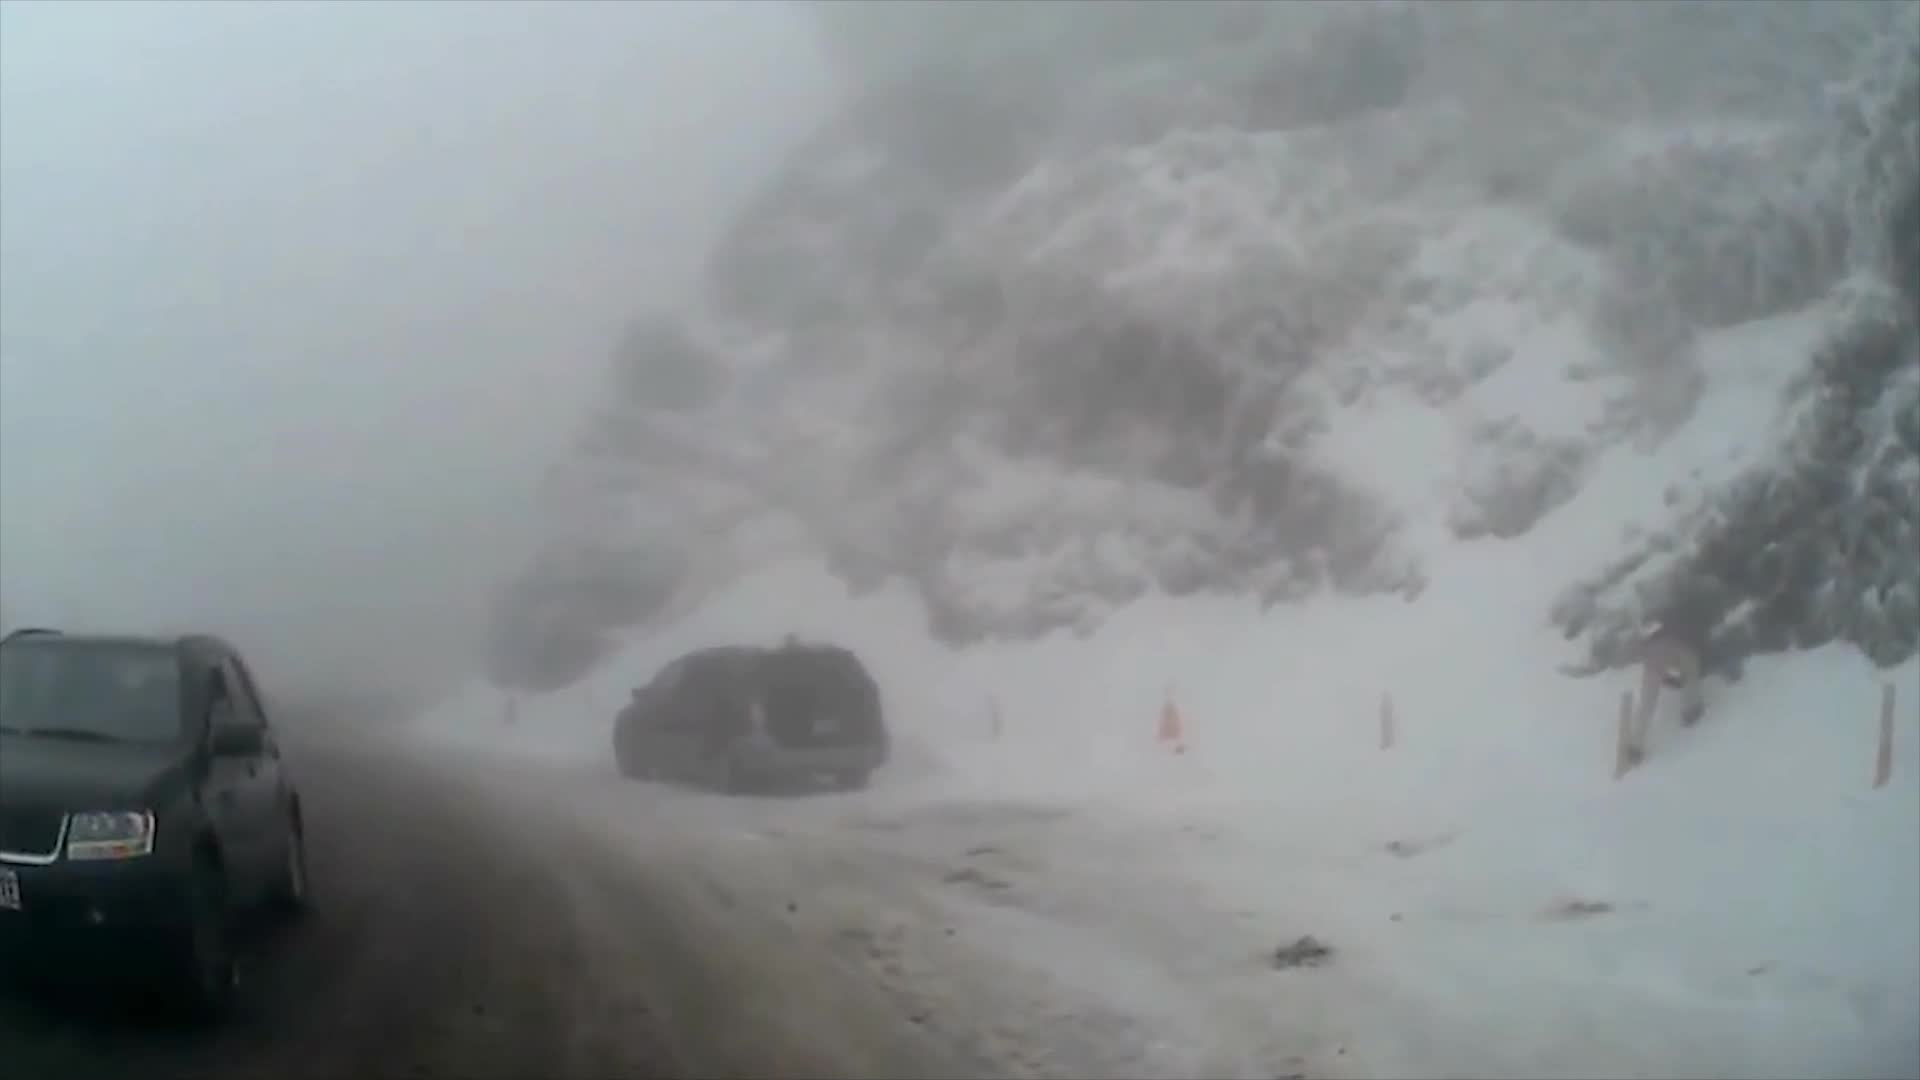vehicle: (0, 626, 309, 1033), (611, 644, 887, 793)
